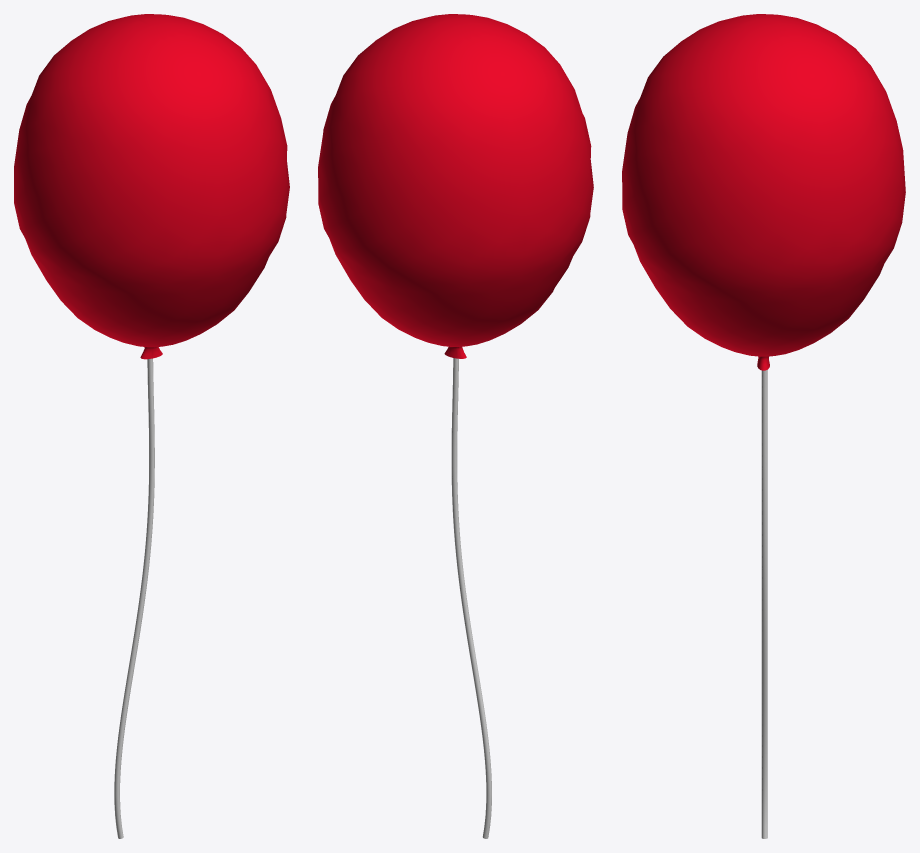
The model's file is globo.fbx.
3 views of the same model, side by side, from view 1: azimuth 30°, elevation 25°; view 2: azimuth 150°, elevation 25°; view 3: azimuth 270°, elevation 25° (orthographic). The views are drawn at different scales.
Visible parts, largest first — view 1: Esfera, Curva NURBS; view 2: Esfera, Curva NURBS; view 3: Esfera, Curva NURBS.
Part boxes in pixels (bbox=[...]): Esfera: bbox=[14, 14, 289, 359]; Curva NURBS: bbox=[114, 358, 154, 838]; Esfera: bbox=[318, 14, 593, 358]; Curva NURBS: bbox=[451, 358, 491, 838]; Esfera: bbox=[622, 14, 905, 370]; Curva NURBS: bbox=[761, 370, 767, 838].
Bounding box in the file's own units: 192 × 619 × 193.
